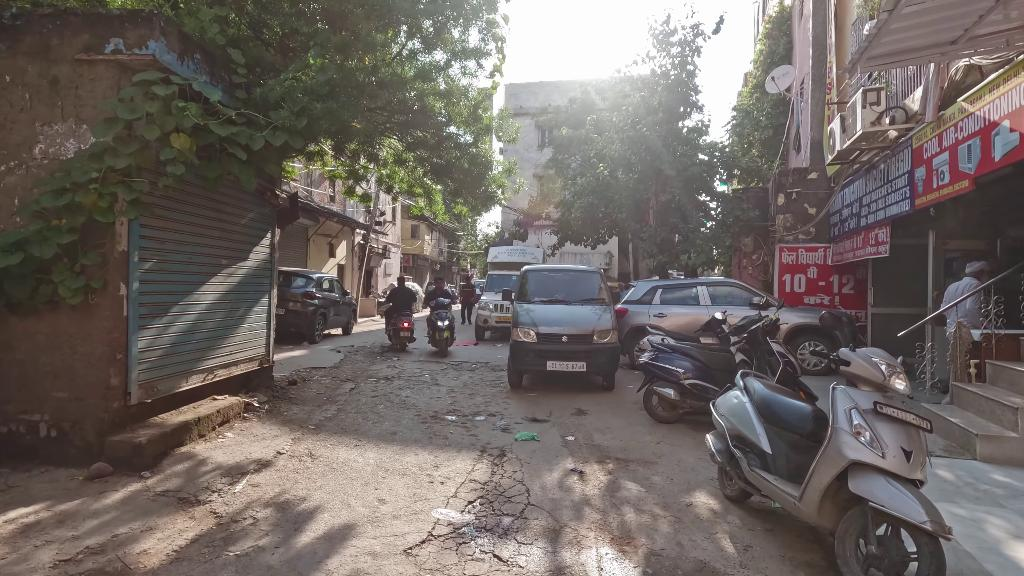garbage: (435, 504, 473, 525), (513, 432, 539, 445)
